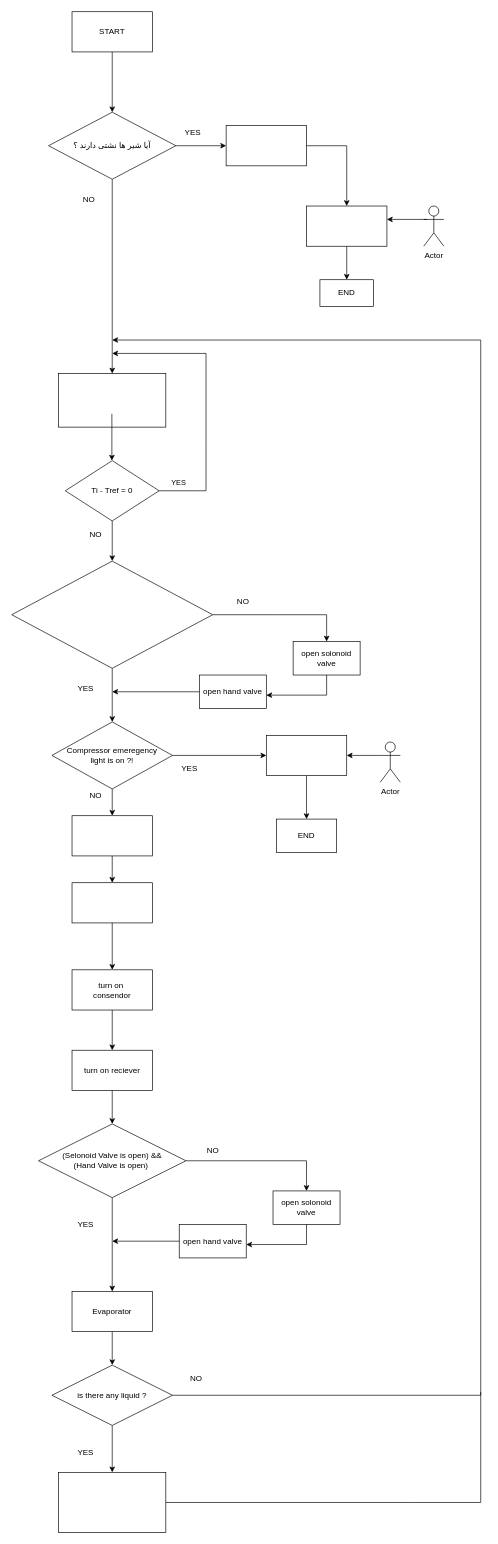
Image size: 498x1544. Some labels were removed from this diagram. Here are the shapes that lost their labels. From the top down, the centre of each, then its label:
At point 266,145: "چراغ هشدار نشتی را روشن شود".
At point 346,225: "close solonoid valve remotely".
At point 112,400: "اندازه گیری دمای محیط Ti".
At point 112,614: "(Hand valve is open) && (Solonoid valve is open)".
At point 306,755: "Close Hand Valve".
At point 111,835: "turn on compressor".
At point 111,902: "turn on oil seprable".
At point 112,1502: "turn on accumulator for gathering liquids".
